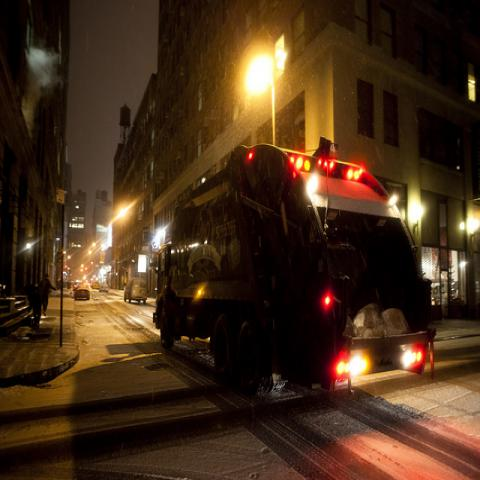car: (124, 277, 148, 302), (74, 284, 90, 300), (99, 282, 109, 292), (90, 282, 100, 290)
truck: (152, 144, 436, 399)
